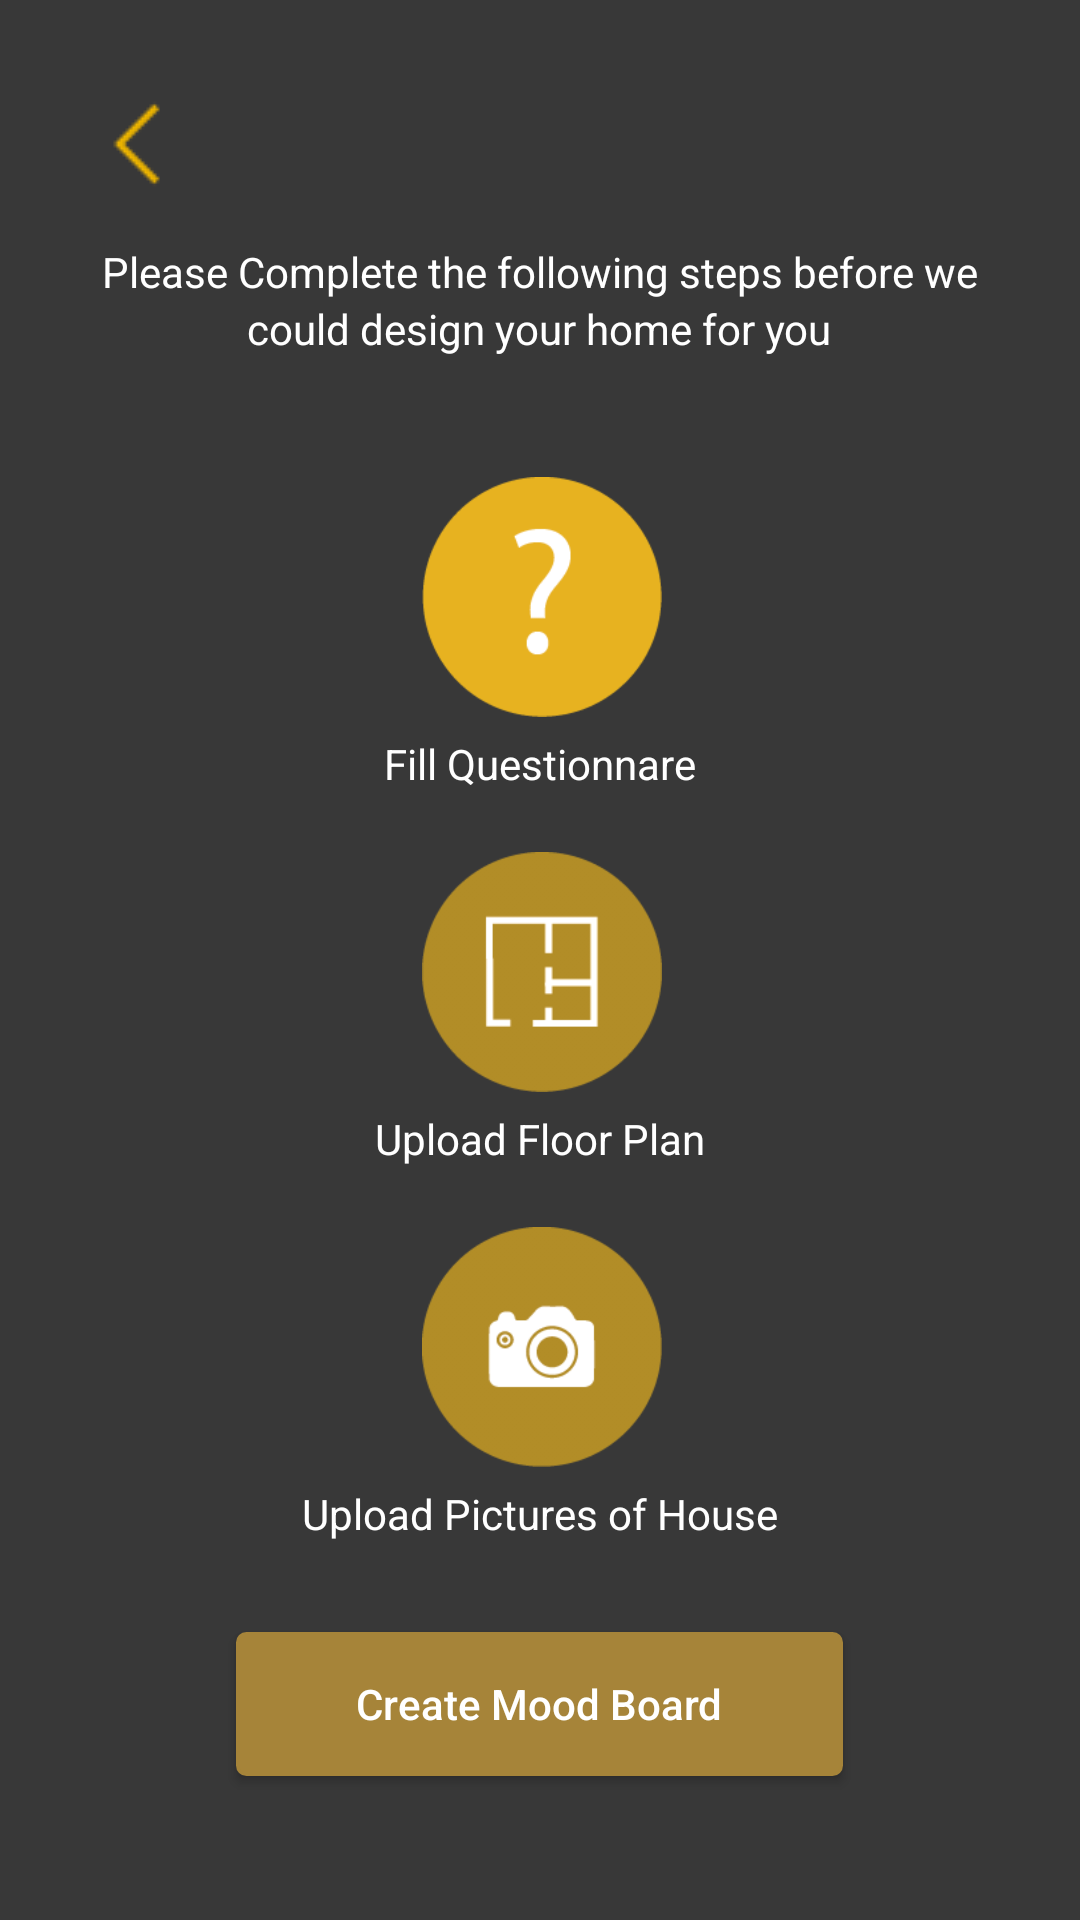

Icon bounding boxes for this 1080px×1920px phone screenshot, format (x1, y1, x2, y2):
back: (114, 104, 160, 184)
